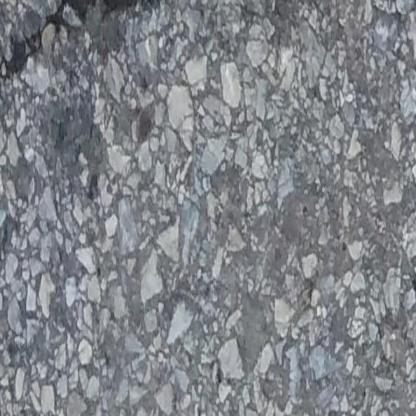Cracks: (0, 0, 209, 90)
